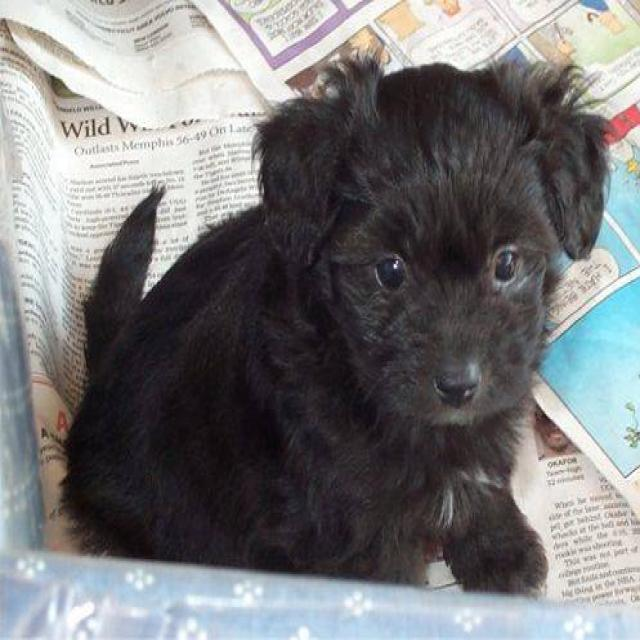dog: (54, 48, 612, 597)
